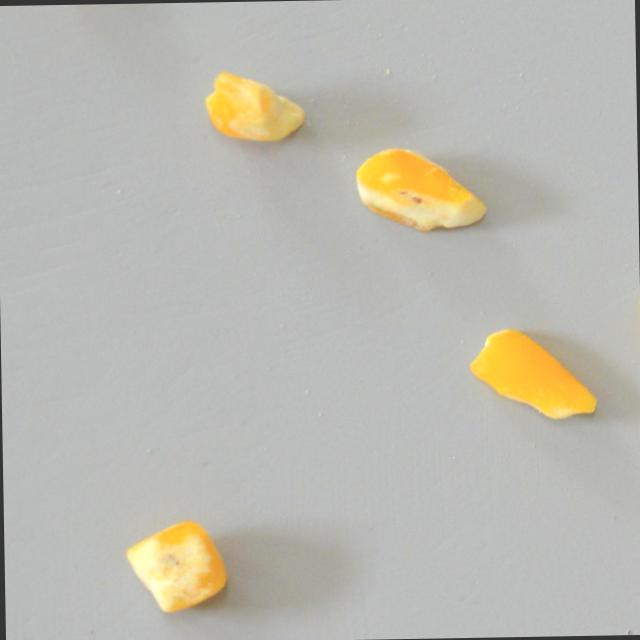dañado: (351, 134, 493, 238), (466, 323, 599, 423), (124, 518, 230, 616), (200, 66, 311, 148)
